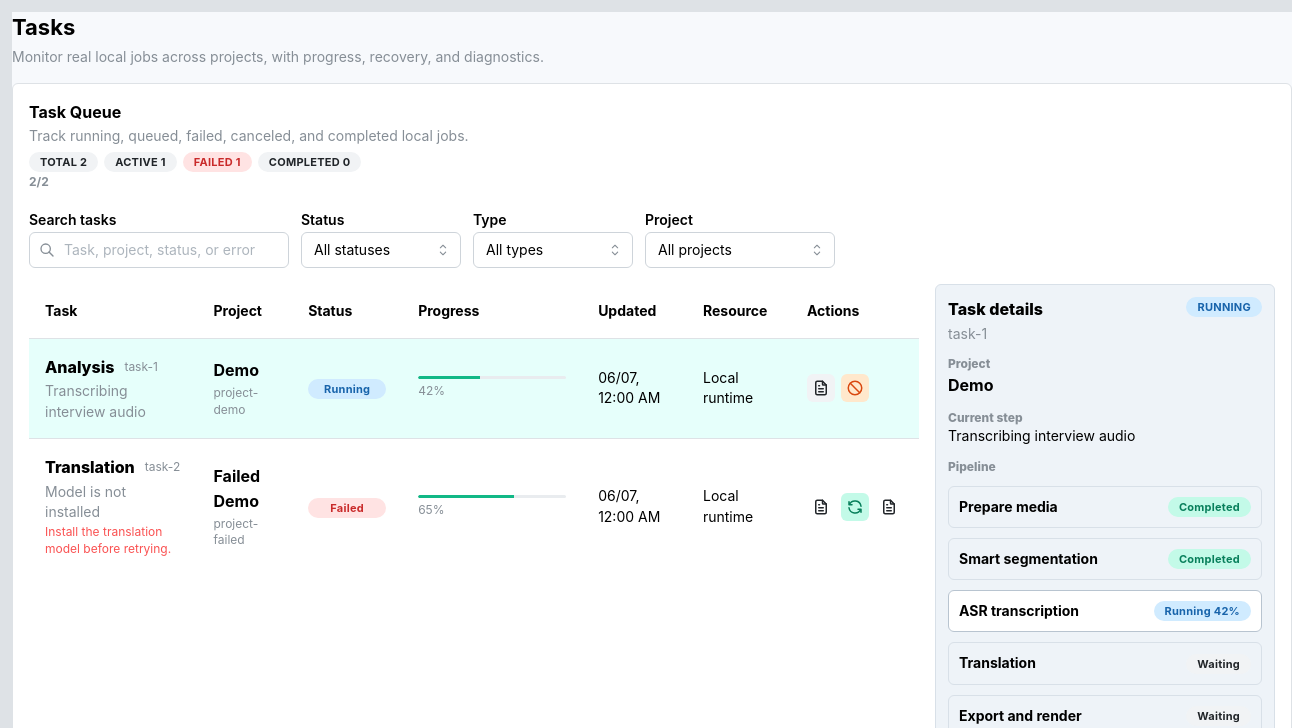
Test: TasksPage › filters the real queue by task search text
This screenshot has width=1292, height=728.
Check: the text "Transcribing interview audio" below "Analysis" is shown, box 45,382 -> 146,420
Type "model" into the field labelled "Search tasks" at (159, 250), box 29,232 -> 289,268
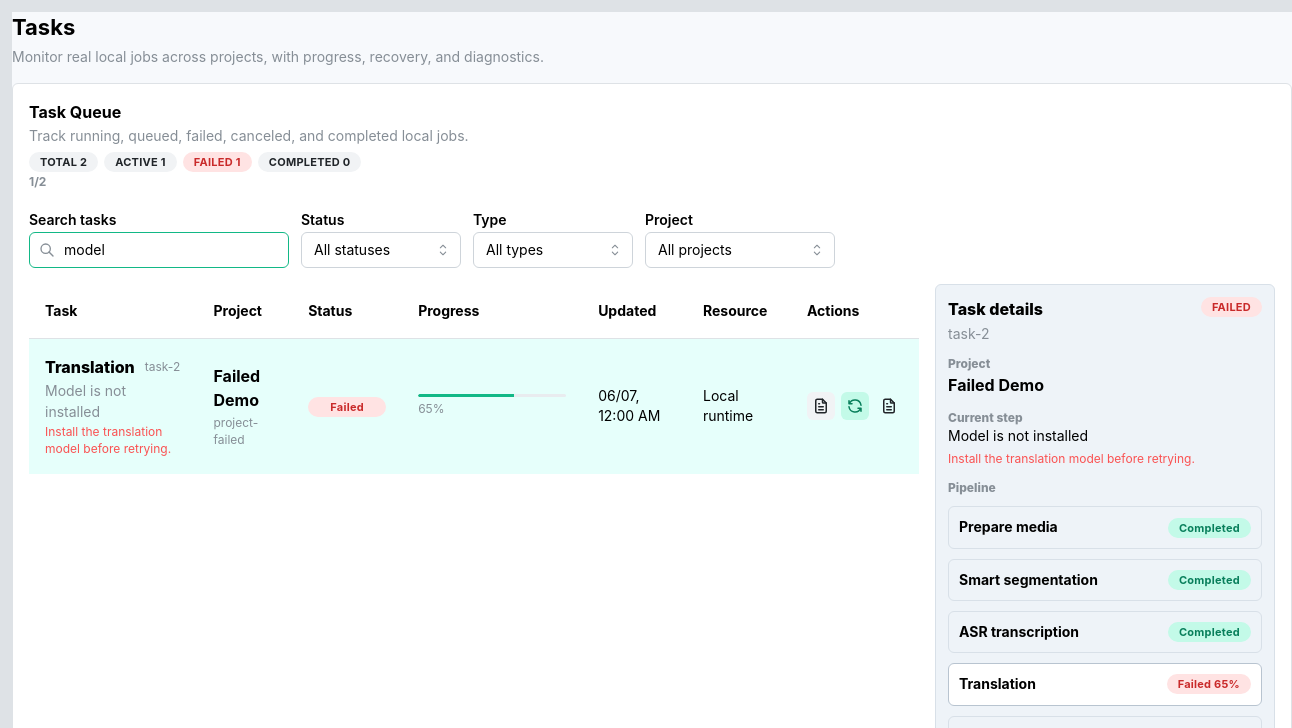
Check: the text "Model is not installed" next to "project-failed" is shown, box 45,382 -> 126,420
Check: the text "Transcribing interview audio" is gone
